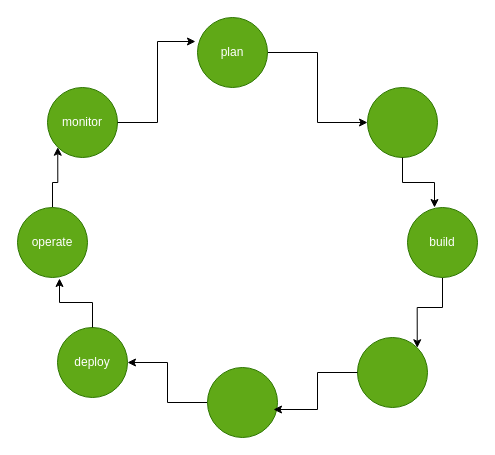
This 495x455 diagram has some shape labels left out. Here are the shapes that lost their labels. From the top down, the centre of each, then its label:
At point 402,122: "develp".
At point 392,372: "test".
At point 242,402: "release".
